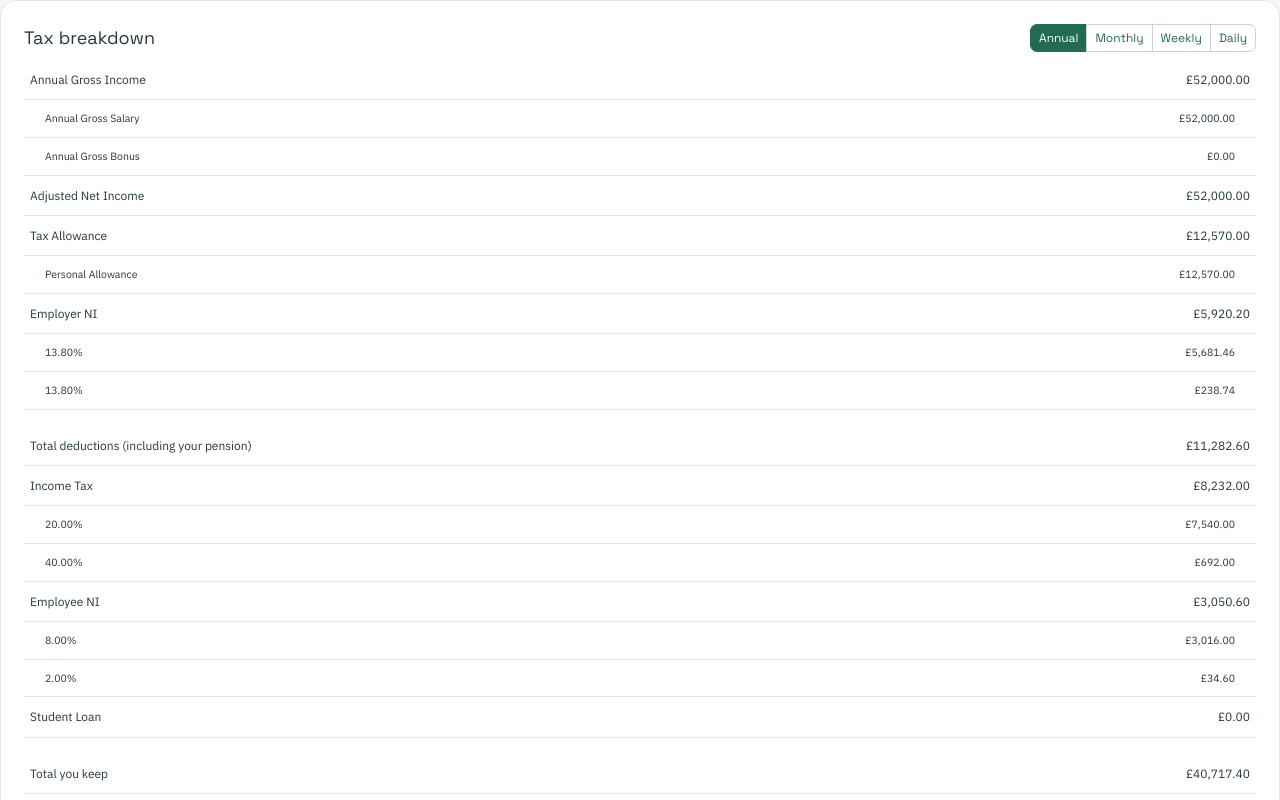
Test: TaxBreakdown › switches back to annual view
What coordinates should you click on to do the following:
click the button "Monthly"
I would click on:
 (1120, 38)
Its box is [1086, 24, 1153, 52].
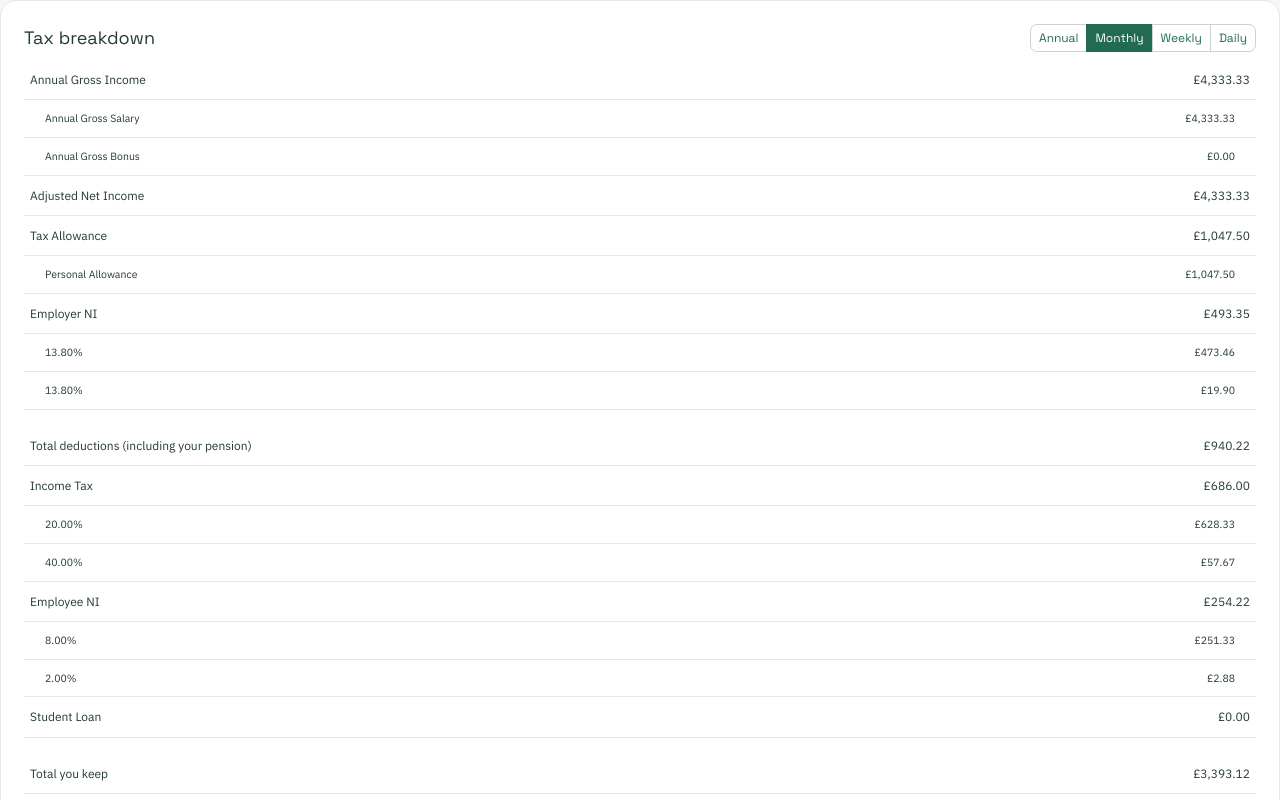
What coordinates should you click on to do the following:
click the button "Annual"
I would click on:
 (1059, 38)
Its box is [1030, 24, 1088, 52].
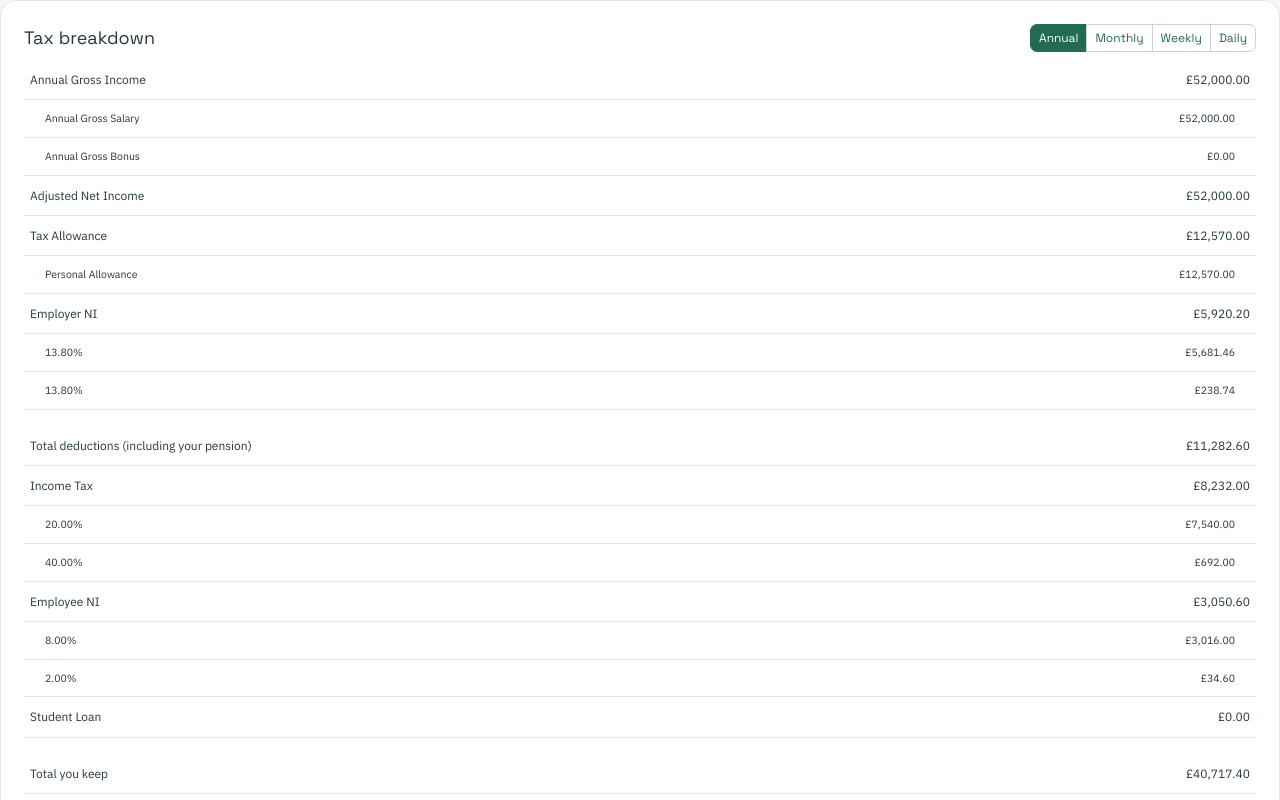
Now the text "£52,000.00" in the row of "Annual Gross Income" is shown, box [1186, 72, 1250, 87]
